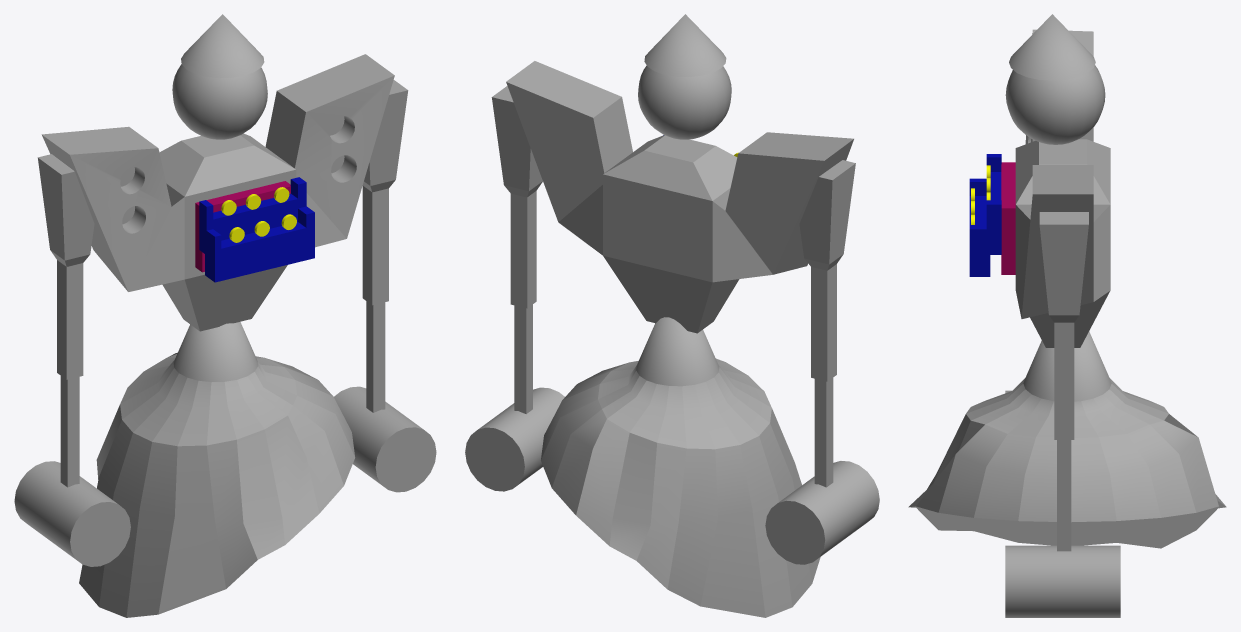
File: clown-proxy-model.fbx
3 renders of one model, left to right at view 1: azimuth 30°, elevation 25°; view 2: azimuth 150°, elevation 25°; view 3: azimuth 270°, elevation 25°, orthographic. The views are drawn at different scales.
Visible parts, largest first — view 1: pCone1, pCube14, arm (×2), mallet (×2), pSphere1, pCube9, pCone2, pCube10, Whack_a_mole; view 2: pCone1, pCube14, arm (×2), mallet (×2), pSphere1, pCone2; view 3: pCone1, pCube14, arm, mallet, pSphere1, pCone2, pCube9, Whack_a_mole, pCube10.
Boxes of the visible parts, x1,y1,x2,y2 form: pCone1: (79,322,355,617); pCube14: (41,54,394,331); arm (×2): (37,80,408,487); mallet (×2): (14,386,436,566); pSphere1: (172,64,267,139); pCube9: (205,206,314,282); pCone2: (181,14,264,78); pCube10: (199,177,306,253); Whack_a_mole: (195,181,290,272); pCone1: (541,317,820,617); pCube14: (506,61,853,333); arm (×2): (491,86,855,487); mallet (×2): (465,387,879,564); pSphere1: (638,65,731,139); pCone2: (644,14,726,76); pCone1: (908,331,1226,548); pCube14: (1015,29,1110,347); arm: (1039,212,1088,551); mallet: (1005,545,1120,617); pSphere1: (1005,65,1105,144); pCone2: (1009,14,1095,80); pCube9: (969,178,990,276); Whack_a_mole: (1001,162,1015,274); pCube10: (986,154,1001,254).
Bounding box in the file's own units: 23.61 × 35.1 × 17.13.
